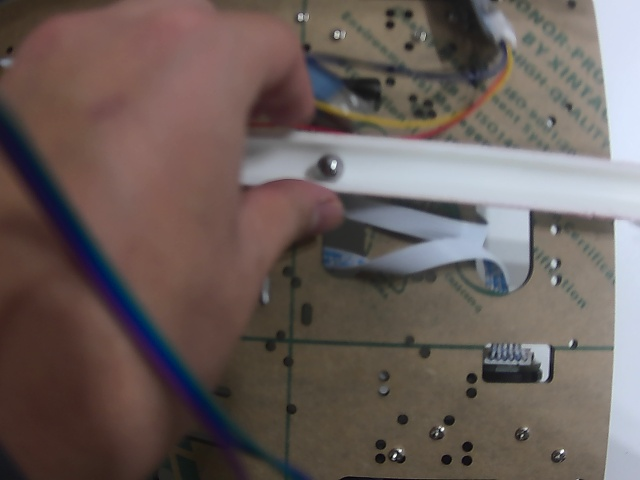steelball: (315, 153, 344, 181)
